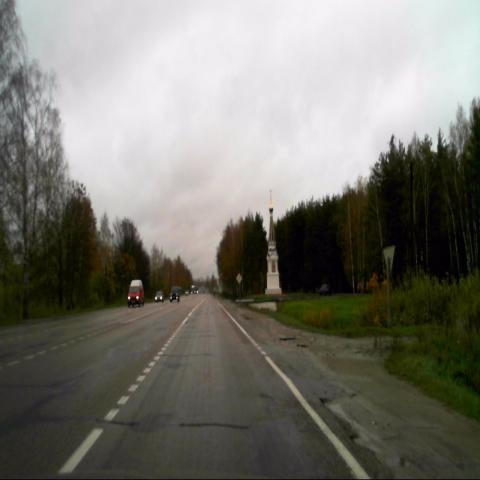2_1: (236, 273, 243, 284)
